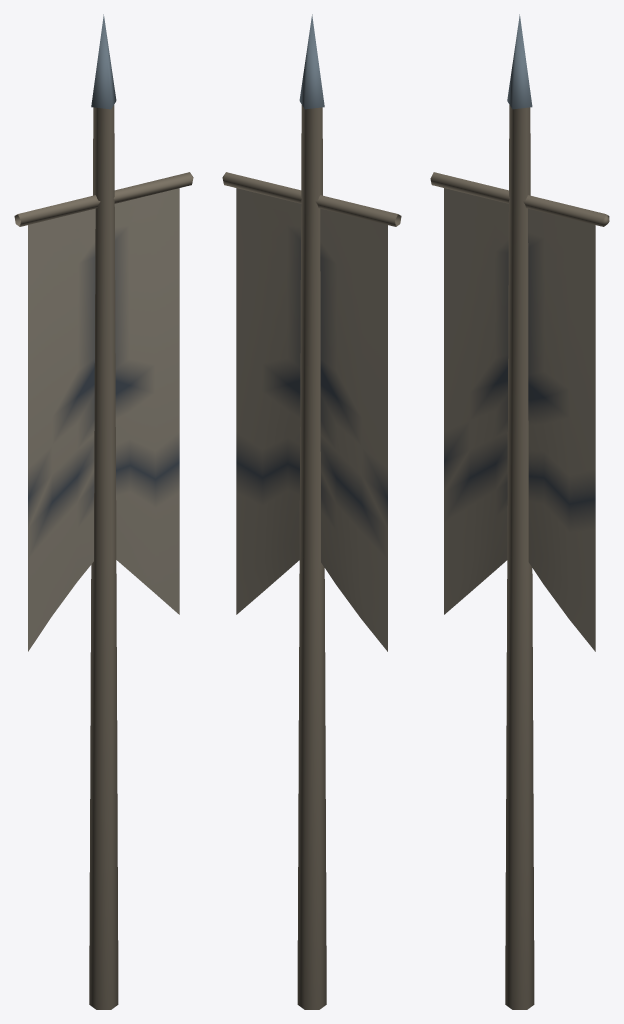
File: banner_aubade.glb
The picture shows the model from 3 angles, left to right: view 1: azimuth 30°, elevation 25°; view 2: azimuth 150°, elevation 25°; view 3: azimuth 330°, elevation 25°; orthographic projection.
Visible parts, largest first — view 1: banner_aubade; view 2: banner_aubade; view 3: banner_aubade.
Boxes of the visible parts, x1,y1,x2,y2 form: banner_aubade: (14,14,193,1009); banner_aubade: (222,14,401,1009); banner_aubade: (430,14,609,1009).
Size of the model in its own units: 0.6944 by 3.74 by 0.1.
